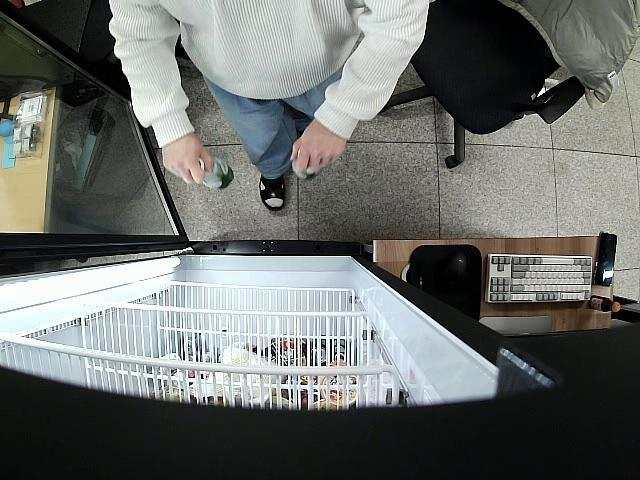18_trevi: (195, 154, 235, 192), (292, 155, 322, 181)
